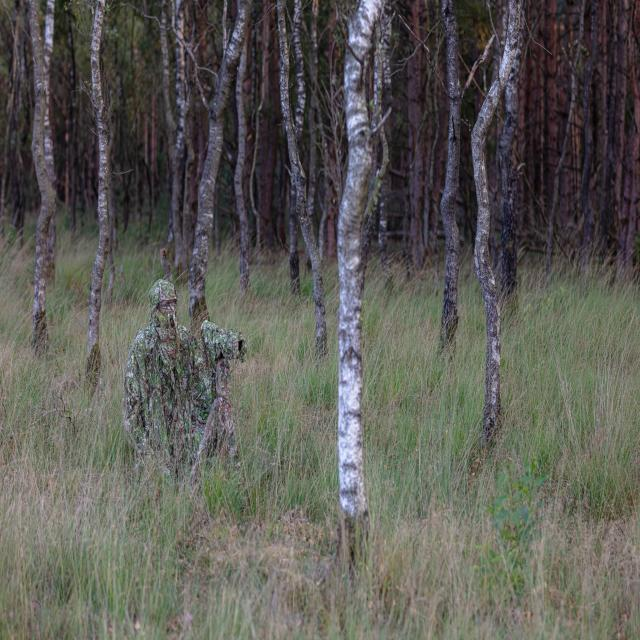Human: (123, 279, 246, 487)
